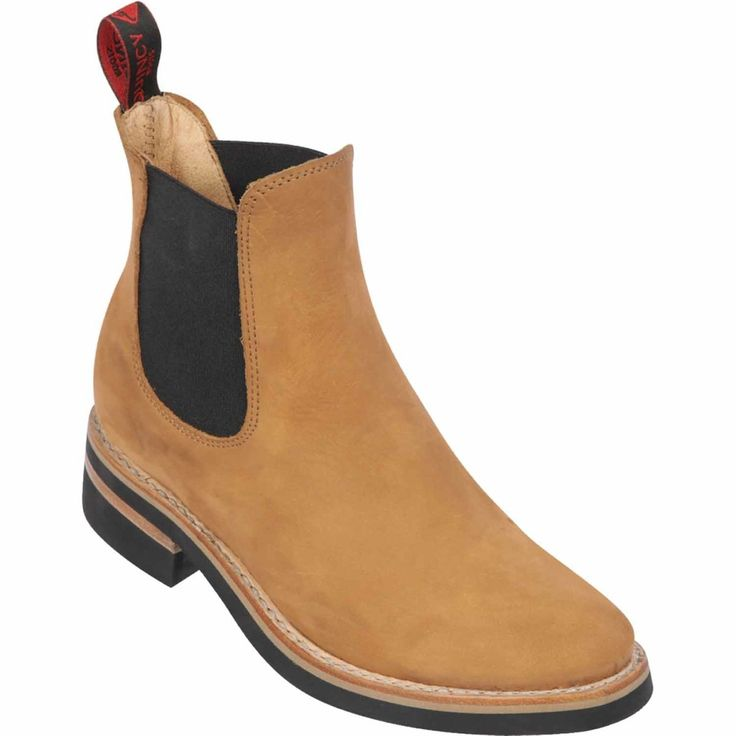gamuza: (91, 94, 636, 690)
